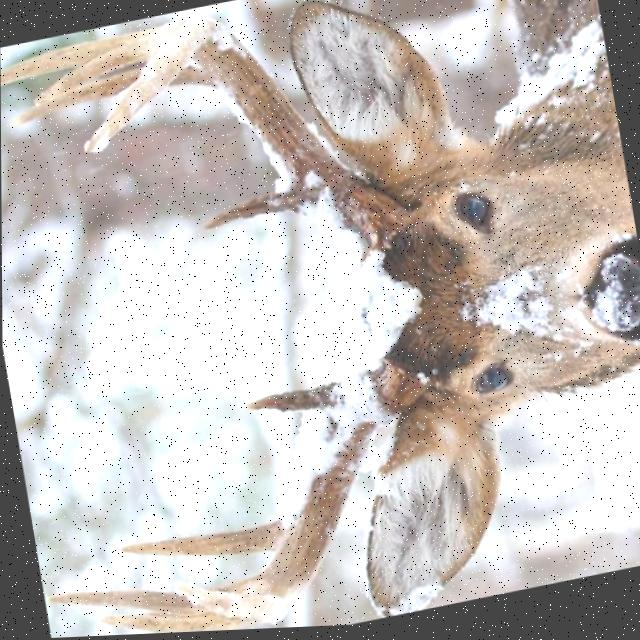L-F: (174, 363, 423, 625)
L-G1: (245, 383, 340, 414)
L-G2: (116, 522, 283, 559)
R-F: (86, 18, 405, 253)
R-G1: (202, 188, 298, 232)
